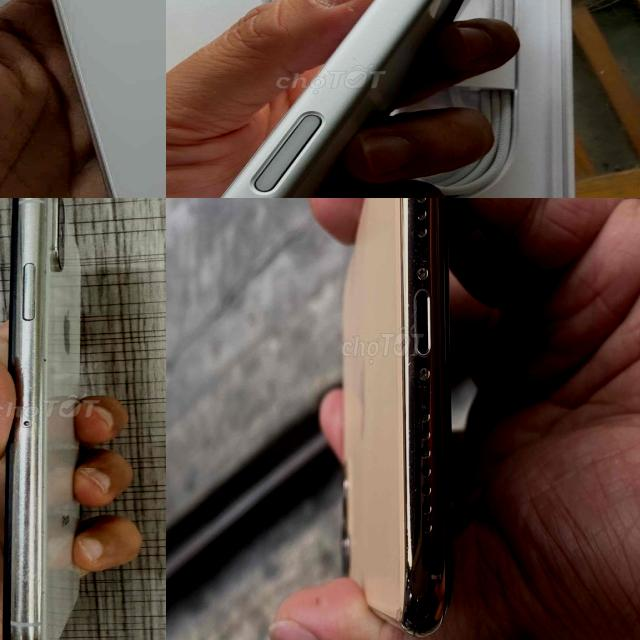gen_11: (330, 198, 480, 640)
gen_12_13: (0, 0, 166, 198)
gen_17: (219, 0, 467, 198), (221, 0, 464, 198)
gen_x_xs: (0, 198, 97, 640)
scratch: (402, 300, 456, 624), (405, 198, 450, 292)
